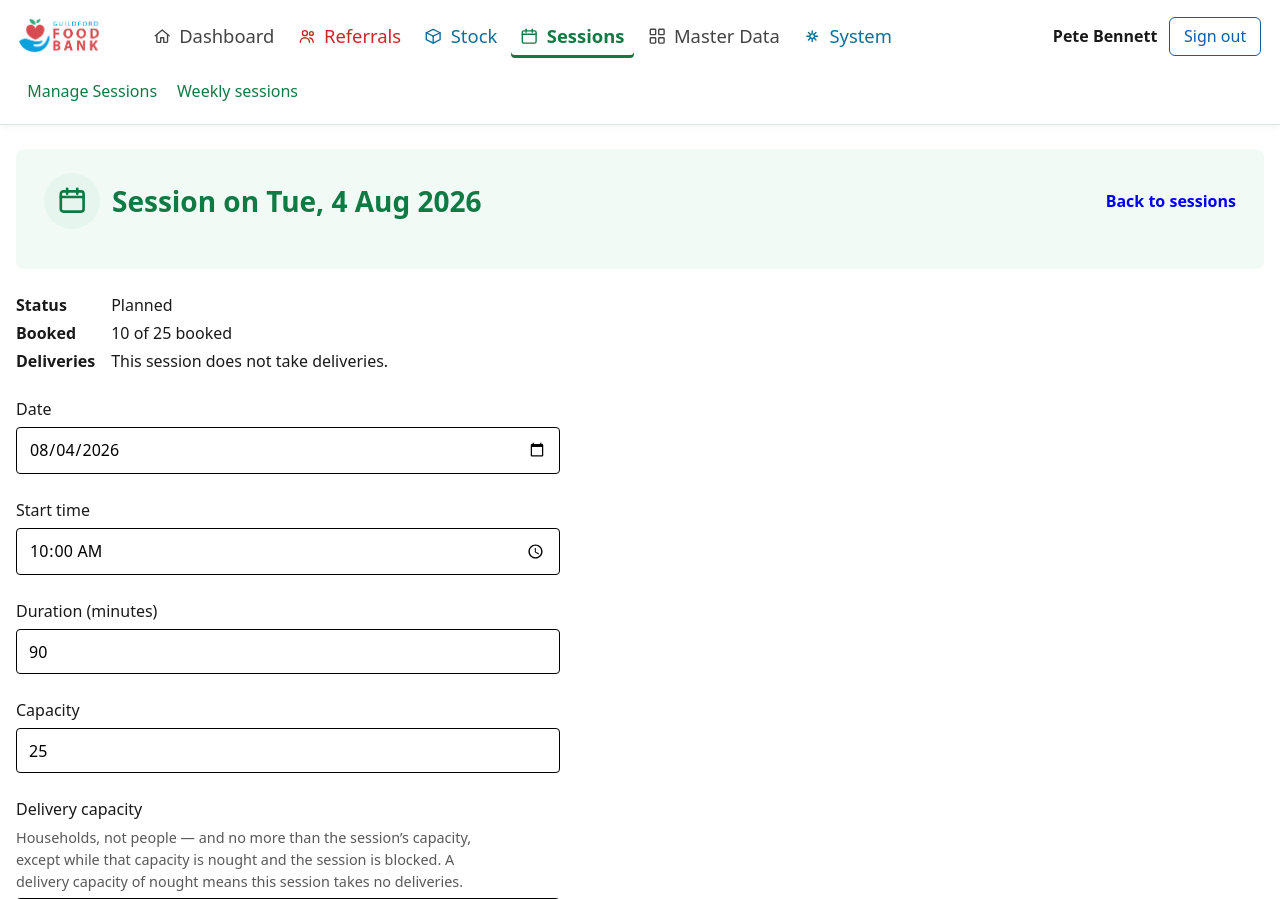
Scenario: the sessions list › reflects an amendment made on the detail screen
Expected: the text "10 of 25 booked" is shown, [111, 322, 232, 344]
Replace the text in the field labelled "Capacity" with "30" at (288, 751), box [16, 728, 560, 773]
(page scrolled)
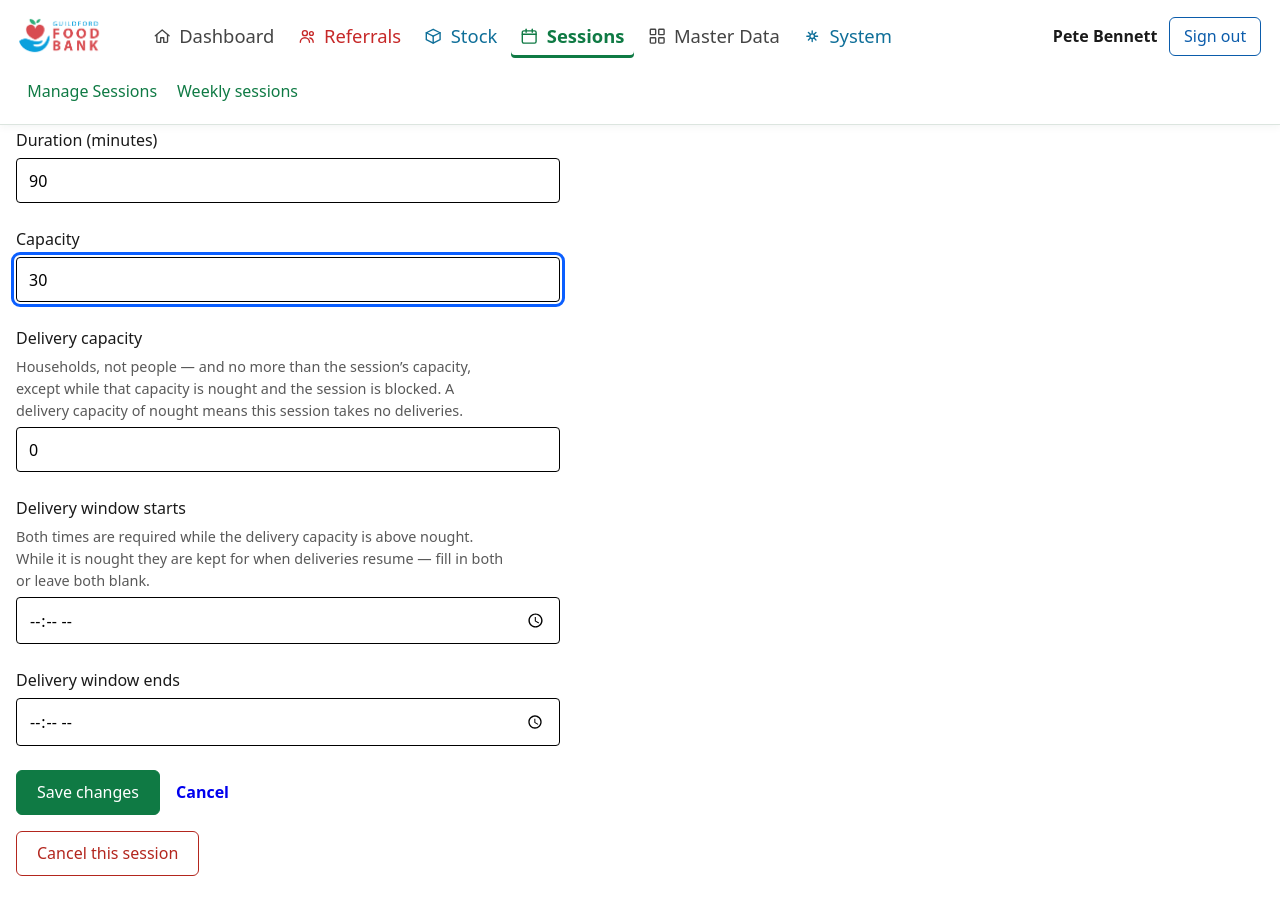
Click the button "Save changes" at (88, 792), box [16, 770, 160, 815]
(page scrolled)
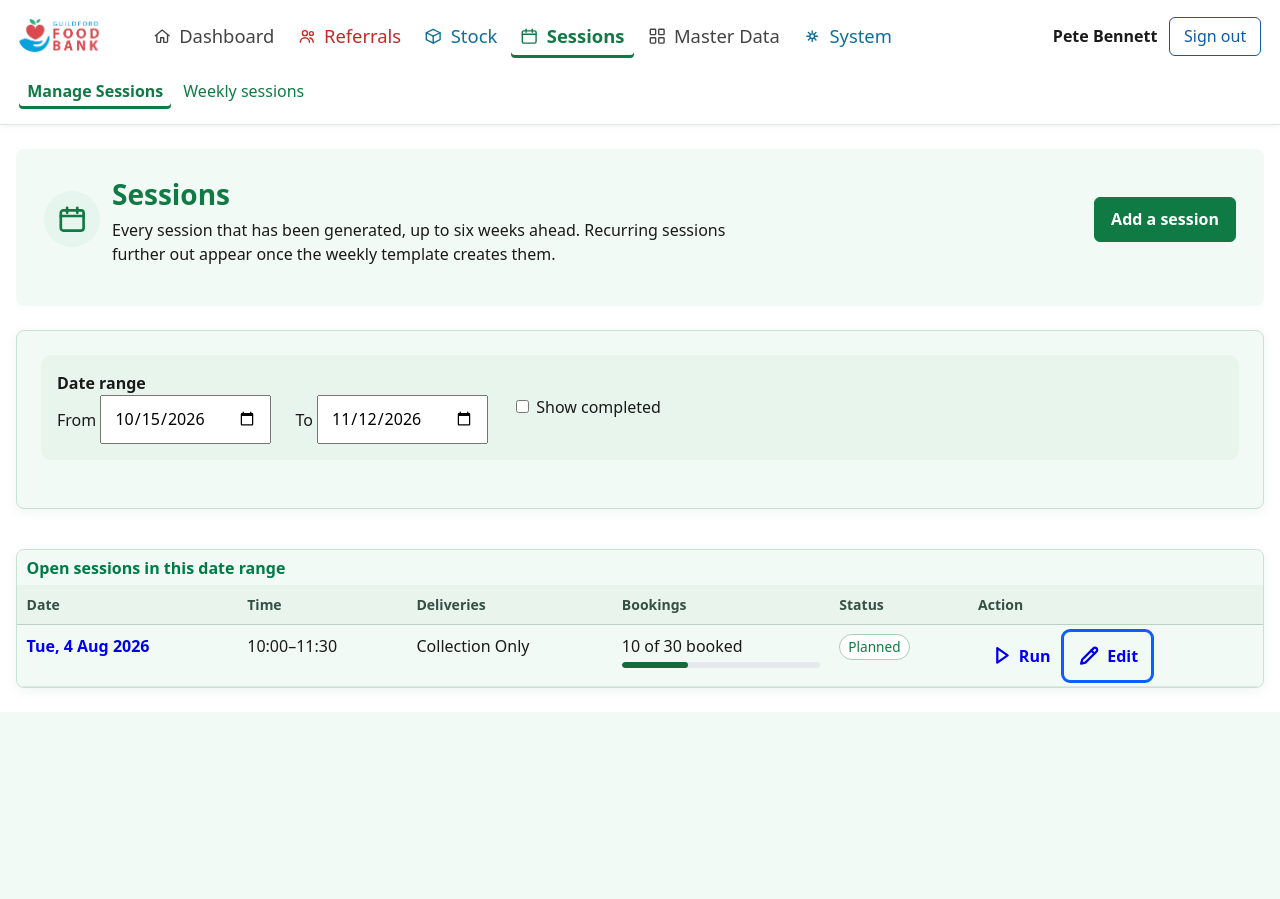
Expected: the heading "Sessions" is shown, [112, 175, 230, 213]
Expected: the text "10 of 30 booked" is shown, [622, 634, 743, 656]
